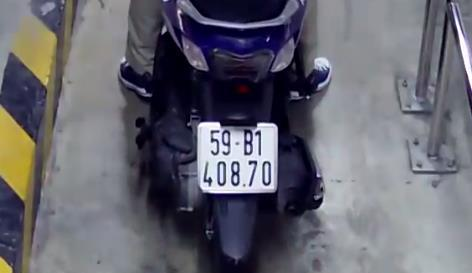lisence: (195, 120, 278, 194)
